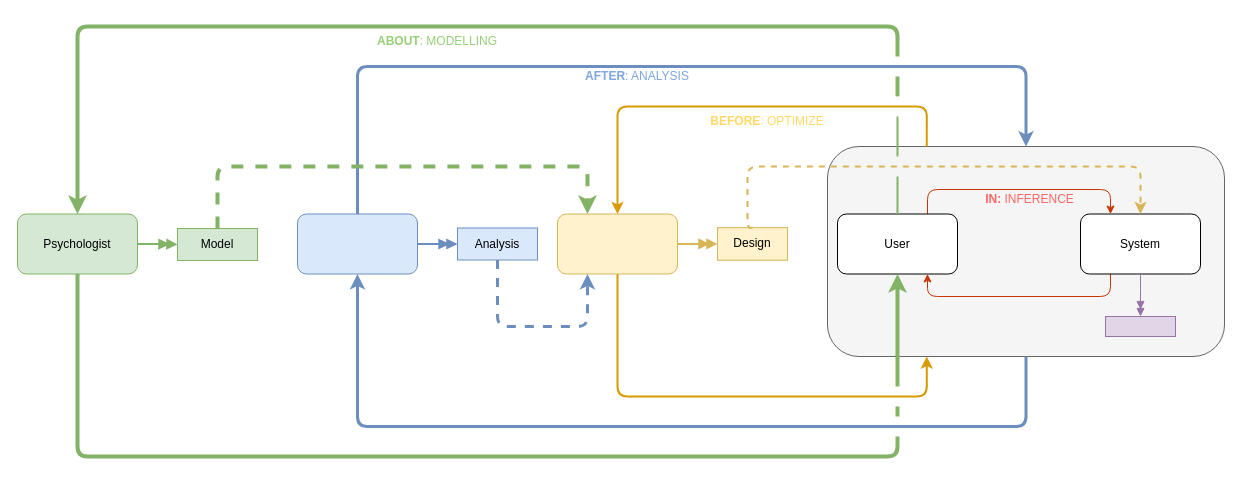
This 1242x483 diagram has some shape labels left out. The shapes that lost their labels are listed below. From the top down, each one's centre as x and y in pixels, then its label:
At [357,243]: "Evaluator".
At [617,243]: "Designer".
At [1140,326]: "Beliefs".
